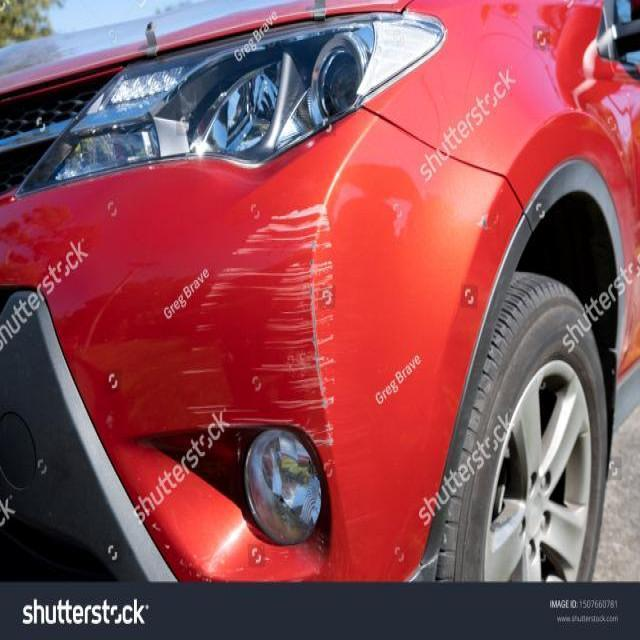minor: (209, 199, 334, 472)
